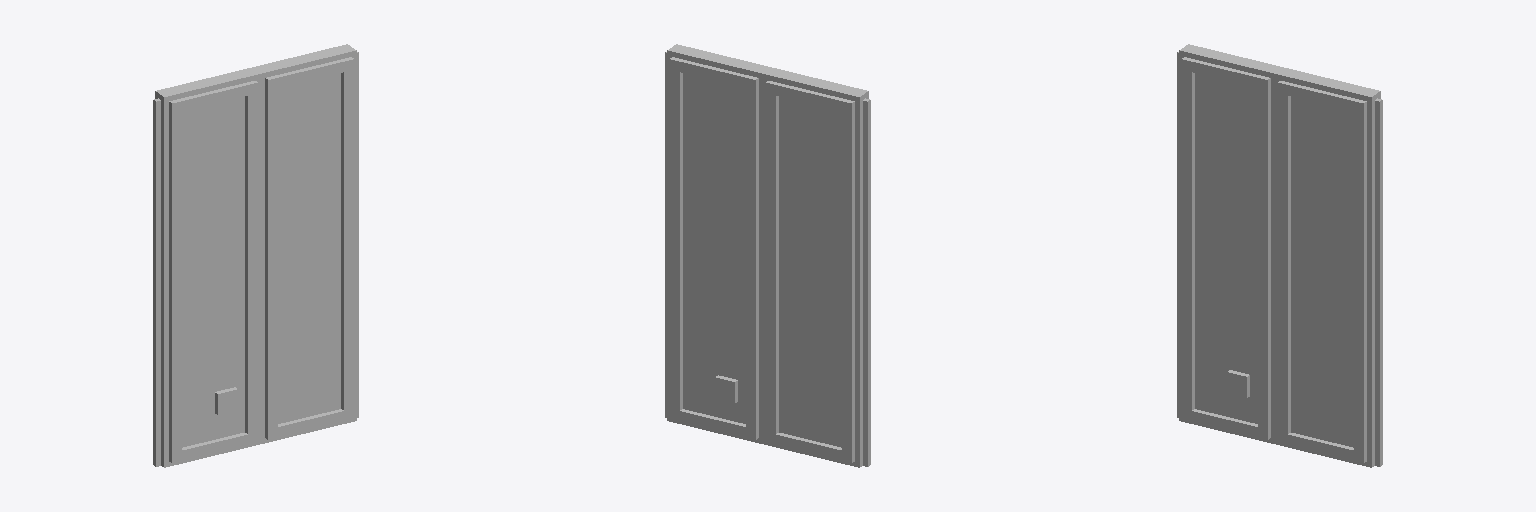
The model's file is gate.obj.
3 views of the same model, side by side, from view 1: azimuth 30°, elevation 25°; view 2: azimuth 150°, elevation 25°; view 3: azimuth 330°, elevation 25° (orthographic).
Visible parts, largest first — view 1: object 1; view 2: object 1; view 3: object 1.
Part boxes in pixels (left/top/right/bottom): object 1: left=153, top=44, right=358, bottom=467; object 1: left=665, top=44, right=870, bottom=467; object 1: left=1177, top=44, right=1382, bottom=467.
Bounding box in the file's own units: 4 × 7 × 0.5.